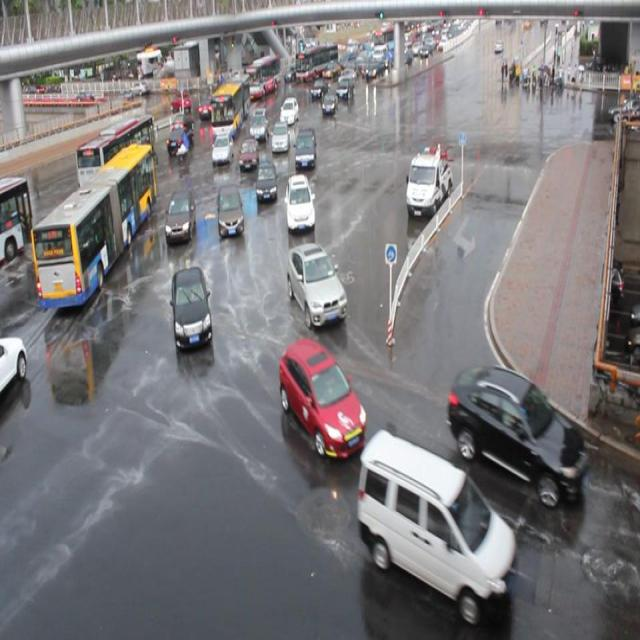bus: (404, 148, 452, 216)
car: (447, 364, 591, 506), (279, 337, 366, 456), (286, 242, 348, 326), (170, 265, 212, 349), (284, 174, 316, 229), (1, 334, 28, 398), (165, 187, 196, 241), (217, 182, 244, 236), (255, 159, 278, 200), (294, 127, 316, 168), (211, 132, 234, 163), (167, 126, 194, 152), (249, 108, 269, 140), (238, 138, 259, 168), (271, 122, 290, 152), (279, 97, 299, 125), (170, 113, 193, 134), (170, 91, 192, 112), (310, 78, 330, 98), (321, 91, 338, 114), (336, 78, 354, 99), (198, 97, 214, 120)
truck: (359, 432, 517, 622)
van: (31, 142, 157, 307), (76, 112, 156, 202), (1, 174, 34, 264), (210, 72, 251, 138), (244, 54, 280, 98)
